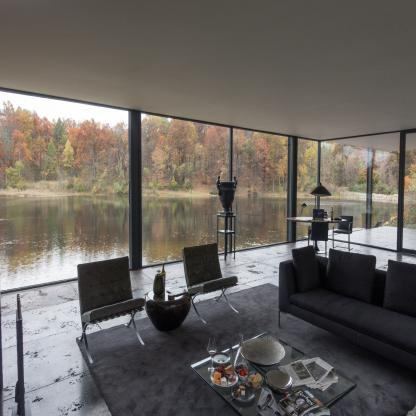chair: (70, 255, 146, 352), (184, 234, 242, 326), (334, 214, 359, 254), (307, 220, 331, 254)
light: (309, 129, 335, 204)
sofa: (271, 248, 416, 384)
table: (187, 330, 357, 416), (290, 215, 336, 246), (218, 211, 244, 263)
